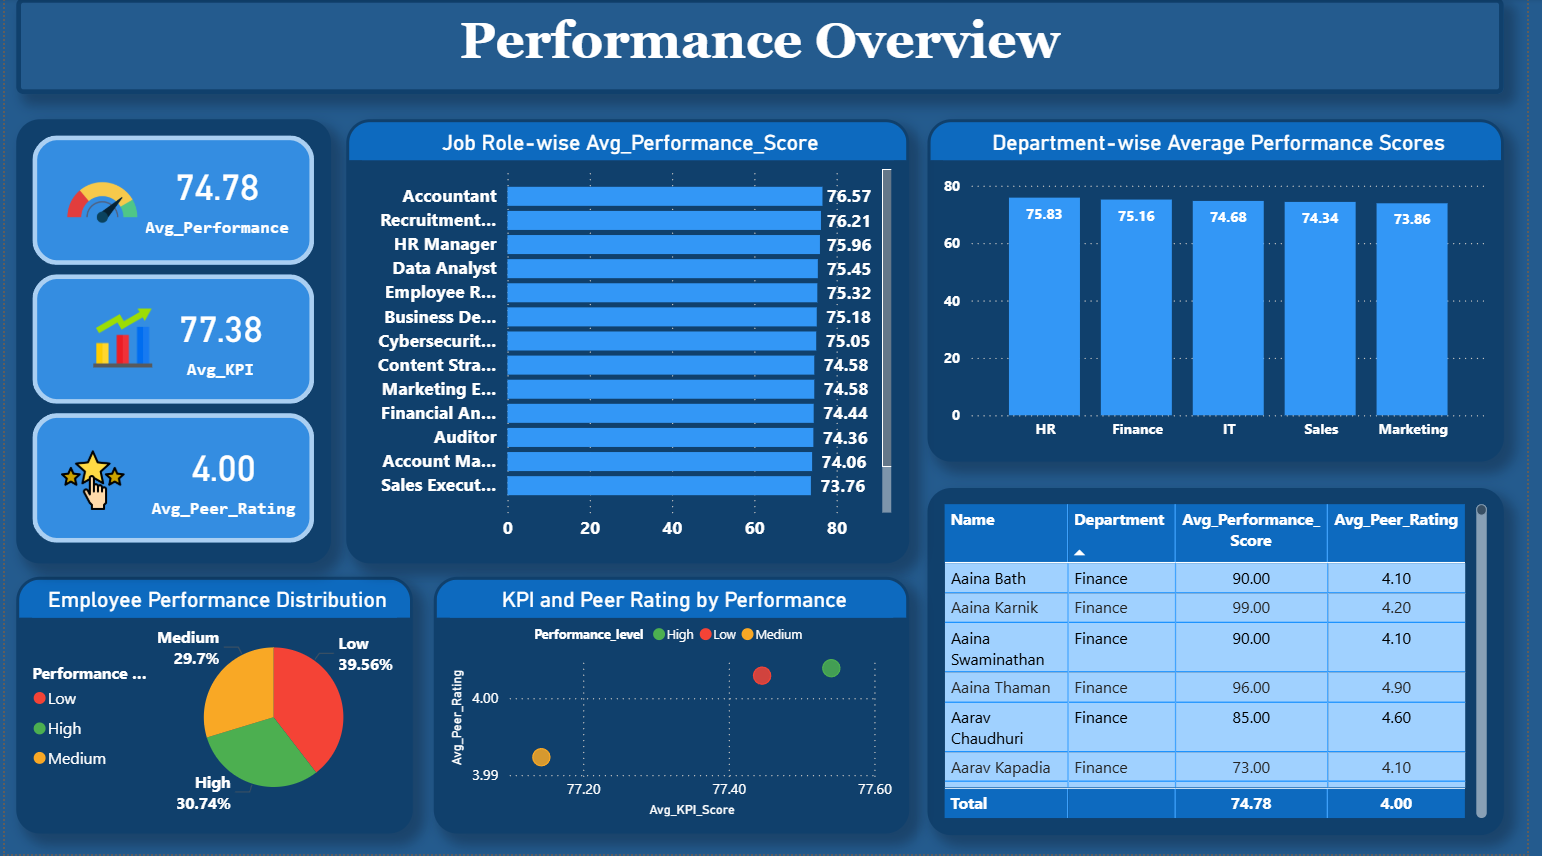

The page's visual inventory and layout, read from the dashboard file:
{"tool":"powerbi","page":{"name":"Performance Overview","canvas":[1280,720],"ordinal":0},"visuals":[{"type":"clusteredColumnChart","title":"Department-wise Average Performance Scores","fields":{"Category":["employees employee_performance.department"],"Y":["Avg(employees employee_performance.performance_score)"]},"box":[775.6,102.3,484.9,288.4],"z":0},{"type":"pieChart","title":"Employee Performance Distribution","fields":{"Category":["employees employee_performance.performance_level"],"Y":["CountNonNull(employees employee_performance.employee_id)"]},"box":[9.3,487.2,333.7,216.3],"z":1000},{"type":"tableEx","fields":{"Values":["employees employee_performance.name","employees employee_performance.department","Avg(employees employee_performance.performance_score)","Avg(employees employee_performance.peer_rating)"]},"box":[775.6,411.6,484.9,291.9],"z":2000},{"type":"cardVisual","fields":{"Data":["Avg(employees employee_performance.performance_score)","Avg(employees employee_performance.kpi_score)","Avg(employees employee_performance.peer_rating)"]},"box":[9.3,102.3,265.1,373.3],"z":3000},{"type":"textbox","box":[9.5,0,1251.2,81],"z":4000},{"type":"clusteredBarChart","title":"Job Role-wise Avg_Performance_Score","fields":{"Category":["employees employee_performance.job_role"],"Y":["Avg(employees employee_performance.performance_score)"]},"box":[287.2,102.3,473.3,373.3],"z":5000},{"type":"scatterChart","title":"KPI and Peer Rating by Performance","fields":{"X":["Avg(employees employee_performance.kpi_score)"],"Series":["employees employee_performance.performance_level"],"Y":["Avg(employees employee_performance.peer_rating)"]},"box":[360.5,487.2,400,216.3],"z":6000}]}

Visuals, with their boxes in screenshot pixels (x1, y1, x2, y2), scaled from the page's 1280x720 canvas onto the 1542x856 screenshot:
"Department-wise Average Performance Scores" clusteredColumnChart: left=934, top=122, right=1519, bottom=464
"Employee Performance Distribution" pieChart: left=11, top=579, right=413, bottom=836
tableEx - employees employee_performance.name x employees employee_performance.department: left=934, top=489, right=1519, bottom=836
cardVisual - Avg(employees employee_performance.performance_score) x Avg(employees employee_performance.kpi_score): left=11, top=122, right=331, bottom=565
textbox: left=11, top=0, right=1519, bottom=96
"Job Role-wise Avg_Performance_Score" clusteredBarChart: left=346, top=122, right=916, bottom=565
"KPI and Peer Rating by Performance" scatterChart: left=434, top=579, right=916, bottom=836
